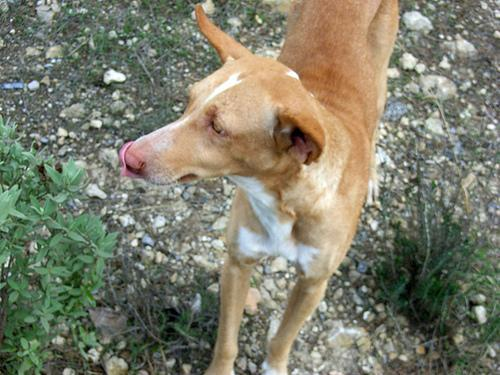Ibizan_hound: (121, 1, 398, 374)
